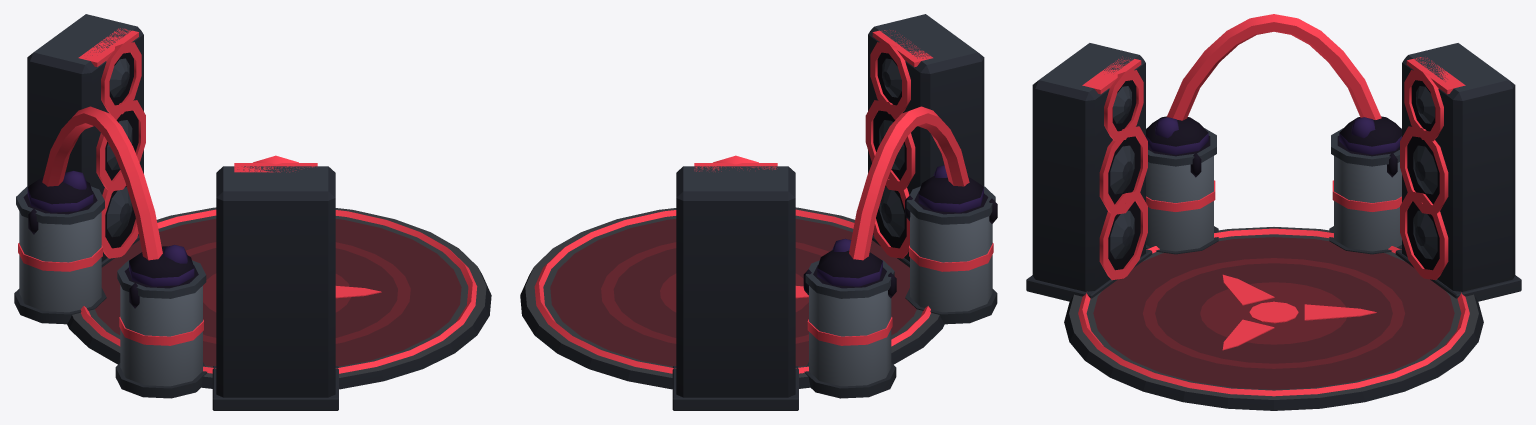
Rendered from train_6.glb.
3 views of the same model, side by side, from view 1: azimuth 30°, elevation 25°; view 2: azimuth 150°, elevation 25°; view 3: azimuth 270°, elevation 25° (orthographic). The views are drawn at different scales.
Parts seen in each view (by area): view 1: Body, Glow; view 2: Body, Glow; view 3: Body, Glow.
Boxes of the visible parts, left/top/right/bottom form: Body: left=14, top=14, right=491, bottom=410; Glow: left=18, top=28, right=477, bottom=373; Body: left=520, top=14, right=997, bottom=410; Glow: left=534, top=30, right=993, bottom=373; Body: left=1026, top=43, right=1521, bottom=410; Glow: left=1078, top=14, right=1469, bottom=396.
Size of the model in its own units: 3.61 by 2.05 by 4.07.
